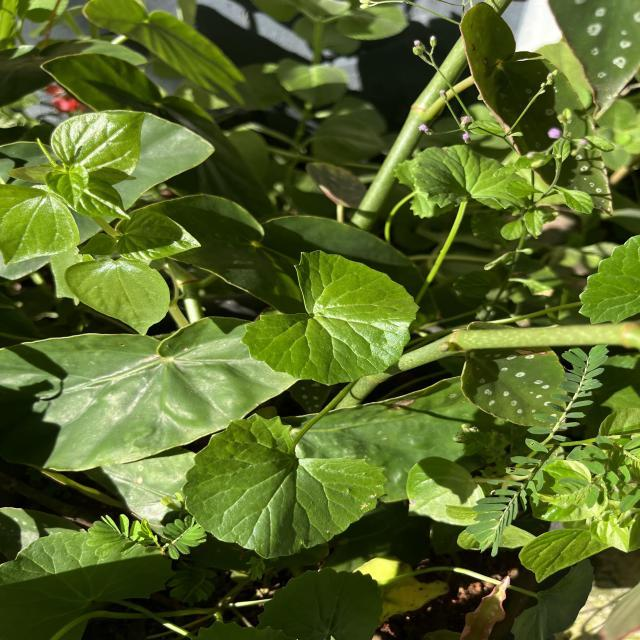Centella asiatica: (176, 409, 392, 562), (236, 248, 424, 388)
